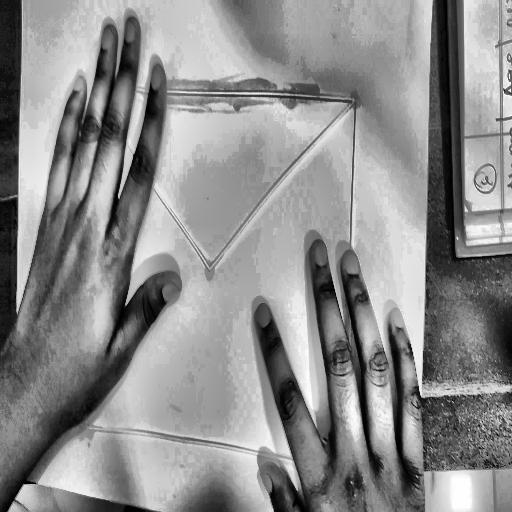bottom_left: (13, 467, 20, 480)
envelop: (73, 74, 363, 481)
